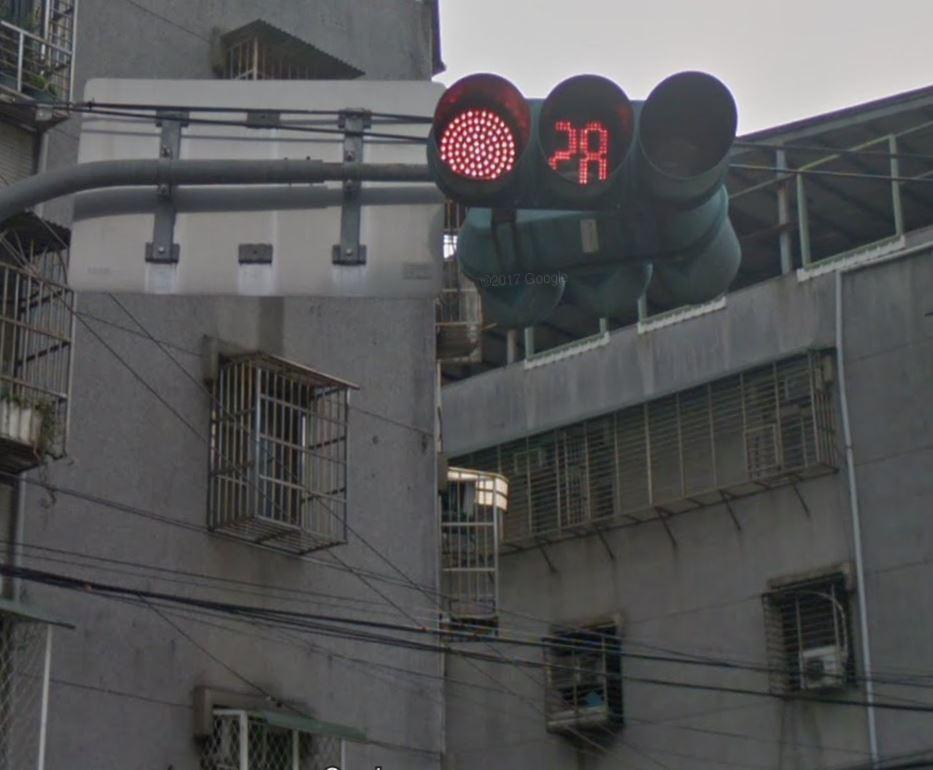red_traffic_light: (428, 71, 740, 190)
